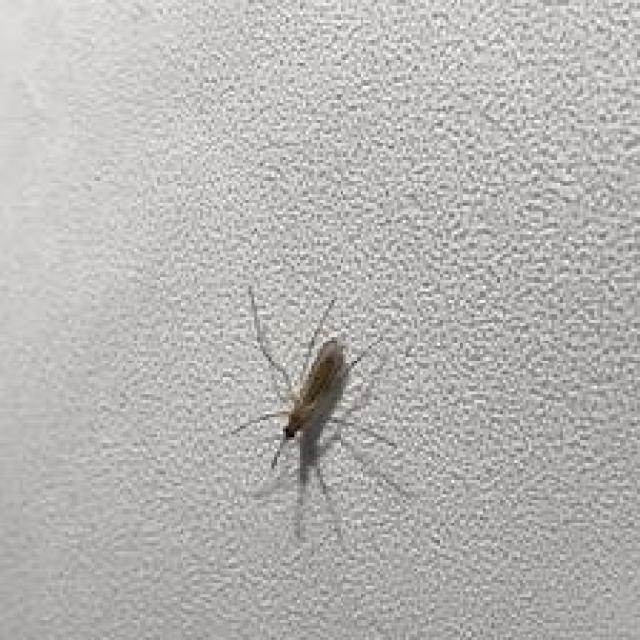Culex: (226, 286, 403, 543)
